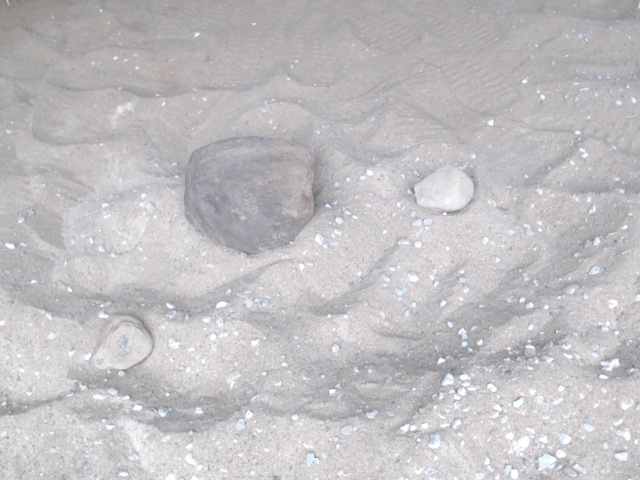rock: (179, 131, 323, 260), (85, 309, 157, 379), (409, 161, 479, 216)
